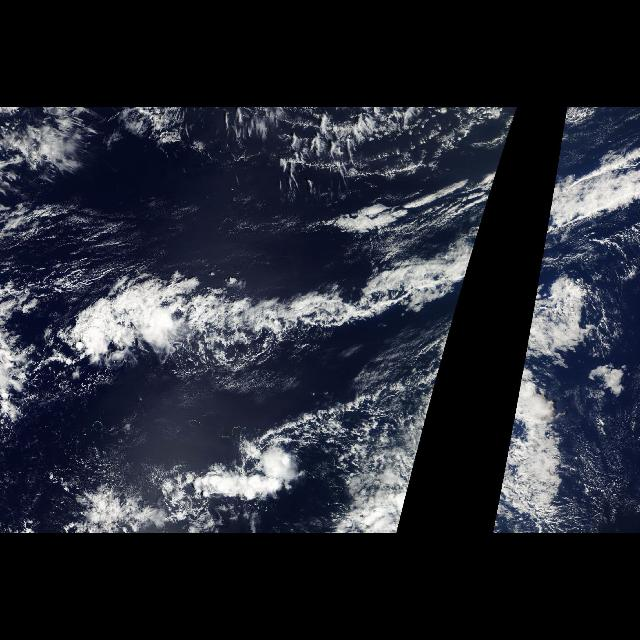Fish: (4, 111, 506, 416), (513, 144, 639, 416)
